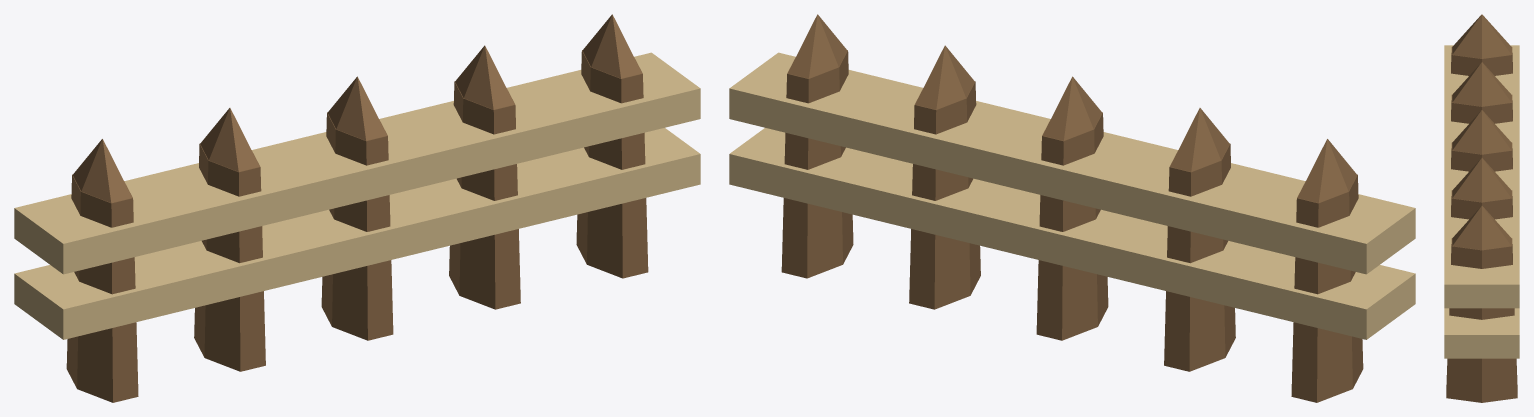
Rendered from env_r10_twig_fence.glb.
The picture shows the model from 3 angles, left to right: view 1: azimuth 30°, elevation 25°; view 2: azimuth 150°, elevation 25°; view 3: azimuth 270°, elevation 25°; orthographic projection. The views are drawn at different scales.
Parts seen in each view (by area): view 1: env_r10_twig_fence; view 2: env_r10_twig_fence; view 3: env_r10_twig_fence.
Boxes of the visible parts, x1,y1,x2,y2 form: env_r10_twig_fence: (14,14,700,402); env_r10_twig_fence: (729,14,1415,402); env_r10_twig_fence: (1444,14,1519,402).
Size of the model in its own units: 3 by 1.1 by 0.4.
1 material, 1 textured.
